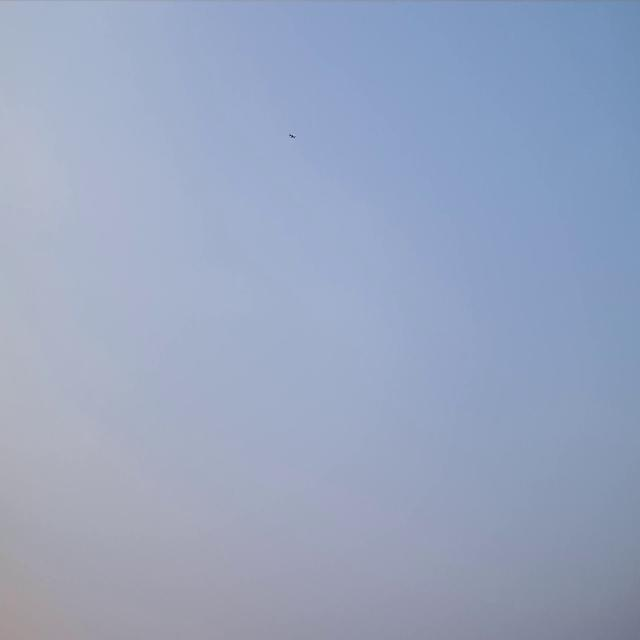UAV: (288, 132, 296, 140)
